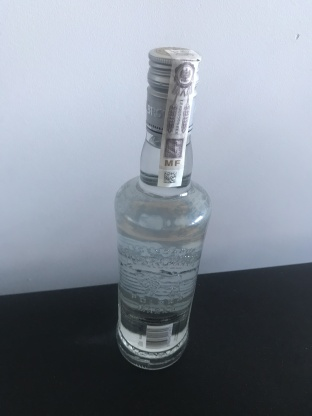nakretka: (143, 41, 203, 140)
